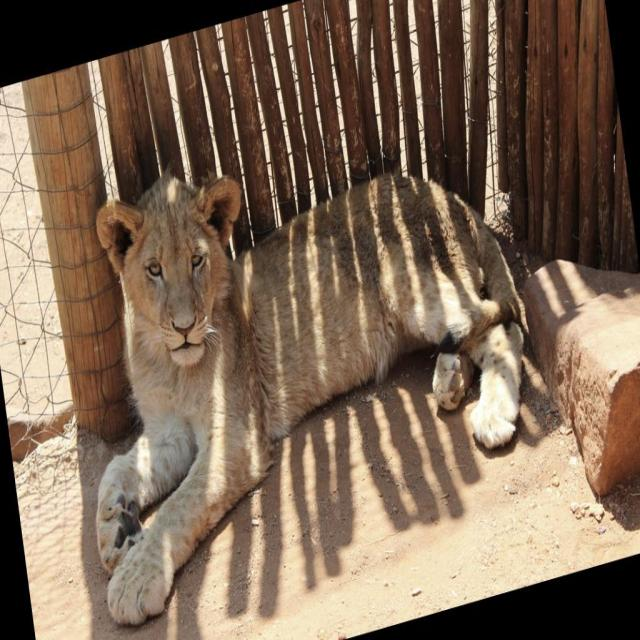Lion: (52, 66, 546, 634)
